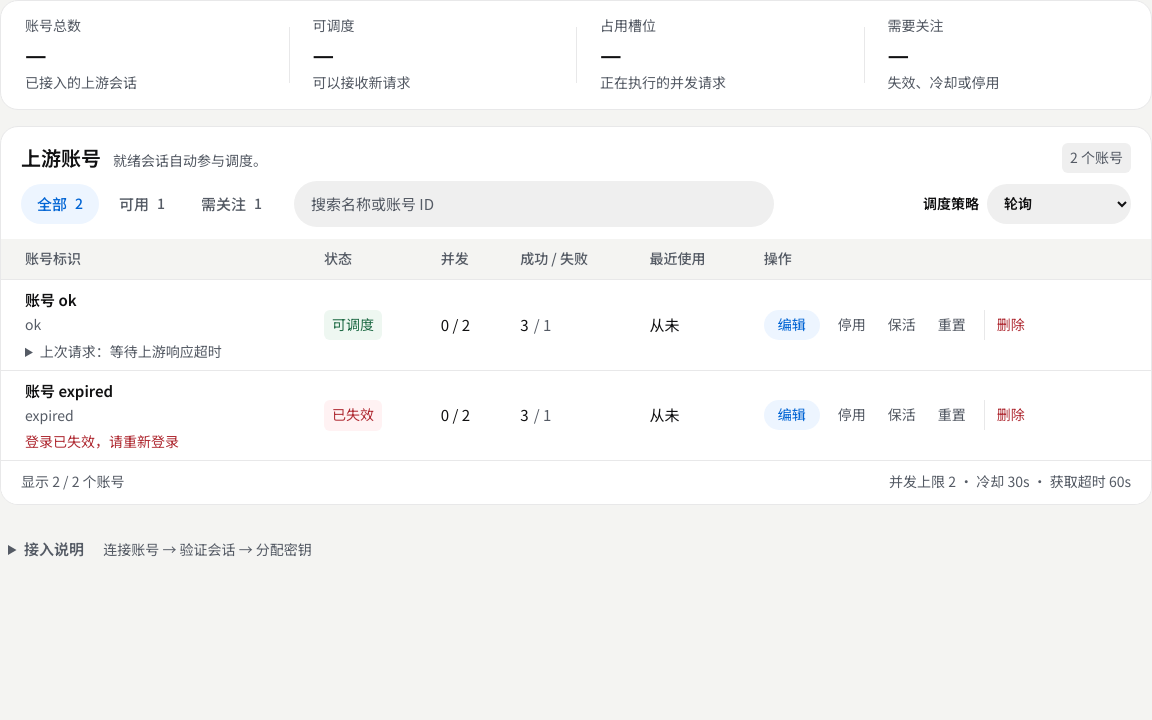
Scenario: 账号池 › 历史请求问题不影响当前可用筛选，登录失效有独立提示
Check: the heading "上次请求：等待上游响应超时" is shown, box [25,341,222,362]
Check: the text "登录已失效，请重新登录" is shown, box [25,431,179,452]
Click the button "可用 1".
click(142, 204)  # box [103,184,181,224]
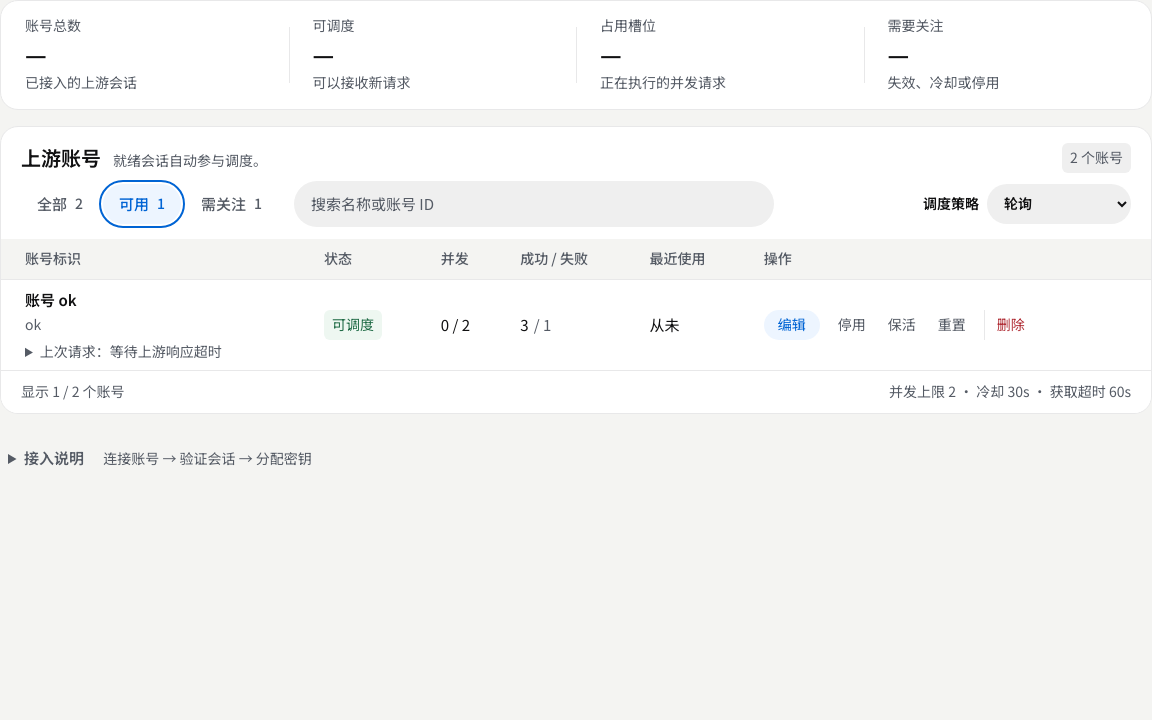
Check: the text "账号 ok" is shown, box [25,291,76,309]
Check: the text "账号 expired" is gone
Click the button "需关注 1".
click(232, 204)  # box [185,184,278,224]
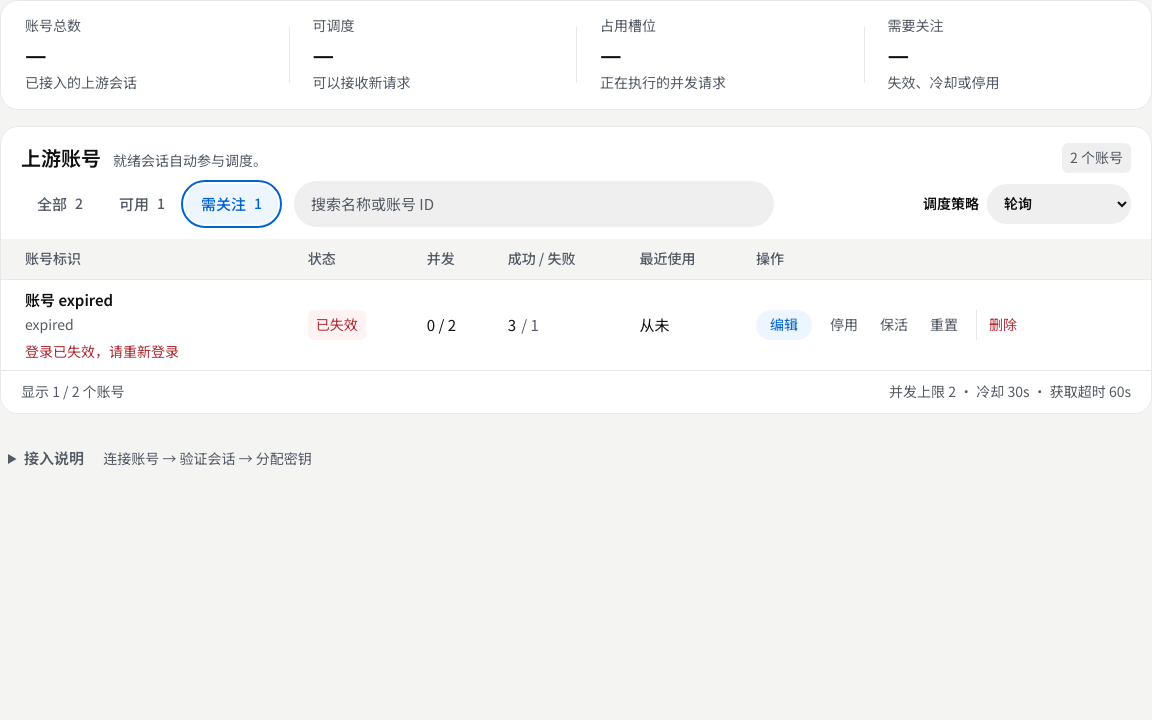
Check: the text "账号 ok" is gone
Check: the text "账号 expired" is shown, box [25,291,113,309]
